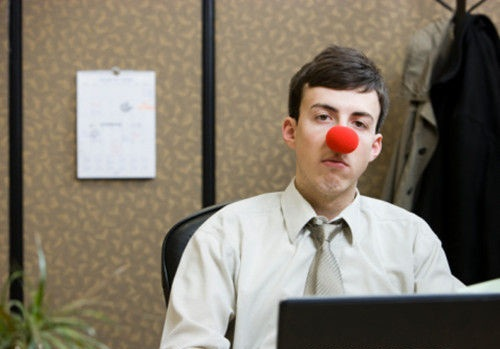face: (292, 87, 378, 192)
